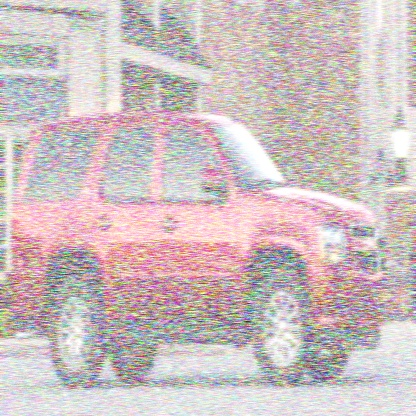Vehicle: (6, 115, 386, 396)
